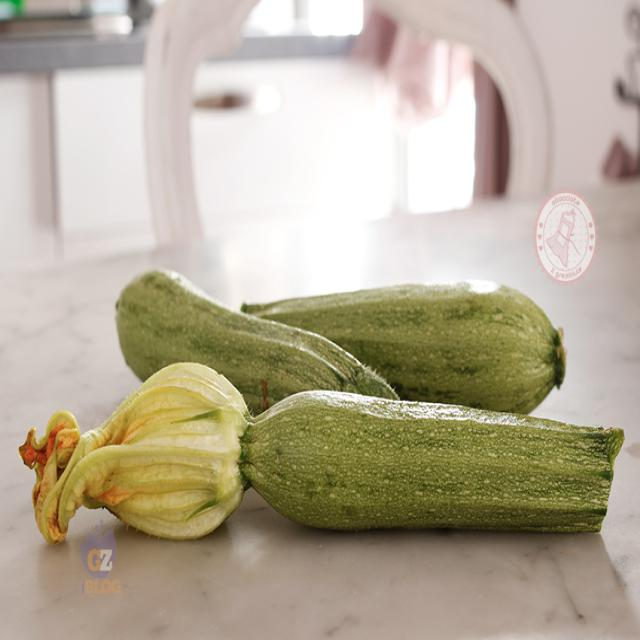Zucchini: (253, 375, 619, 540)
